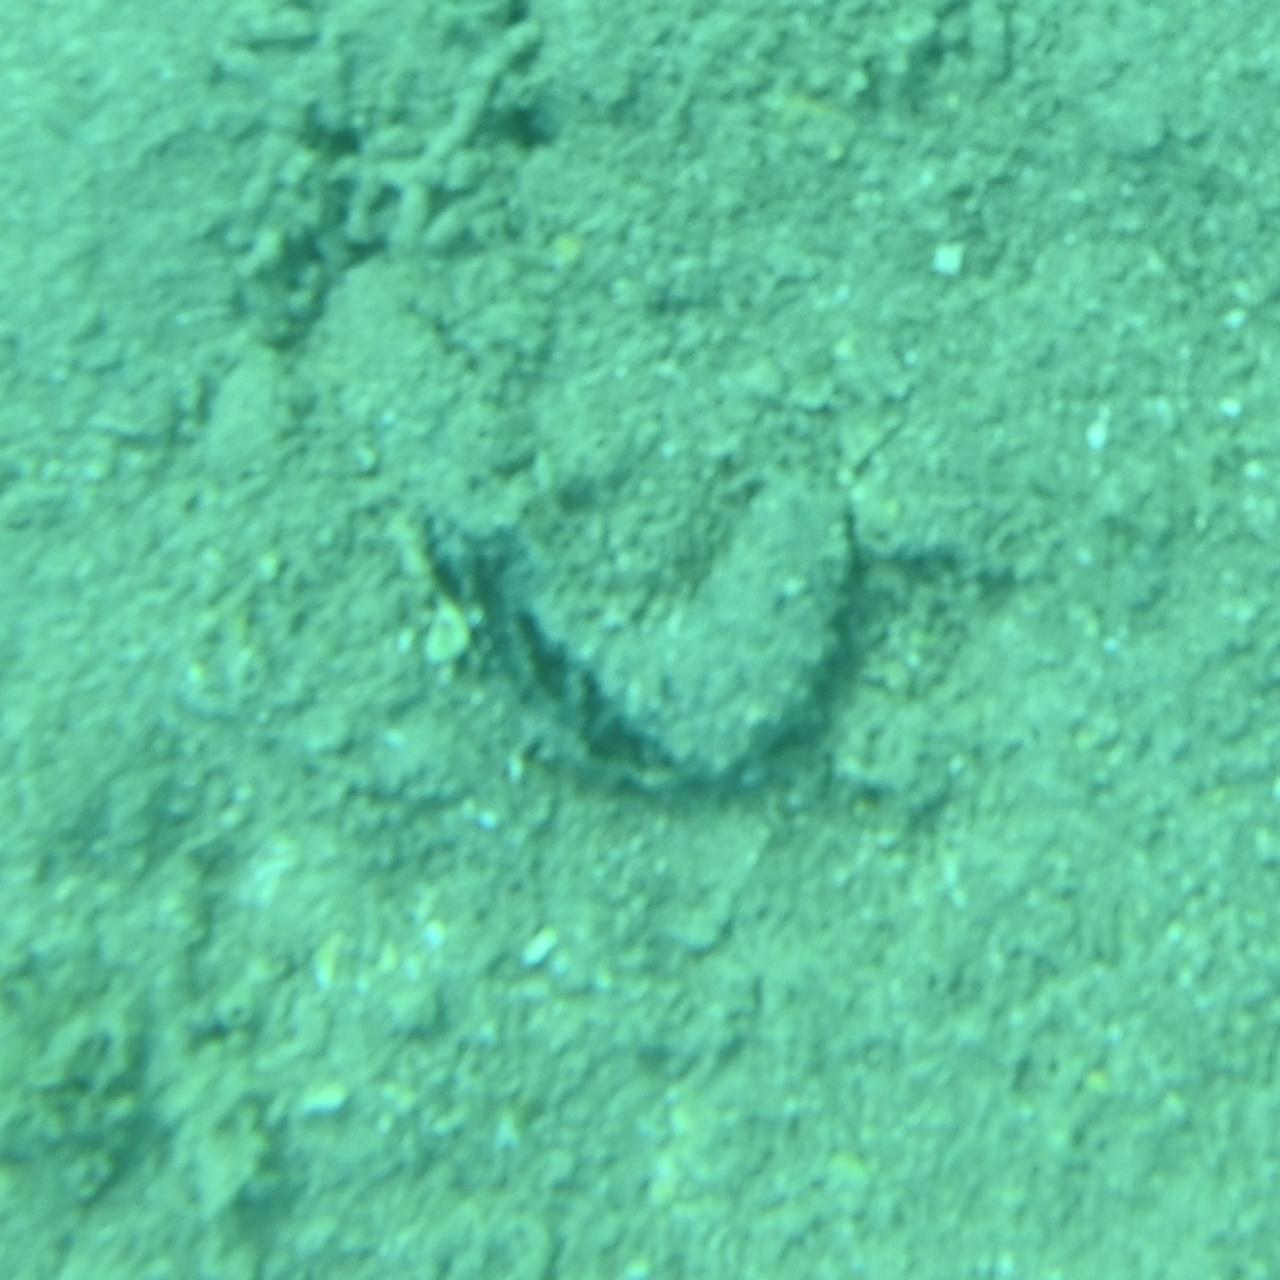Holothuria tubulosa: (400, 450, 880, 830)
